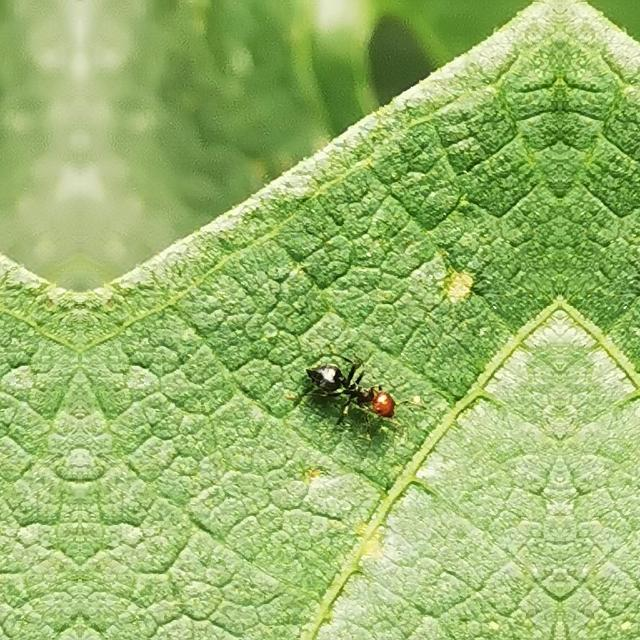Crematogaster: (304, 340, 404, 426)
